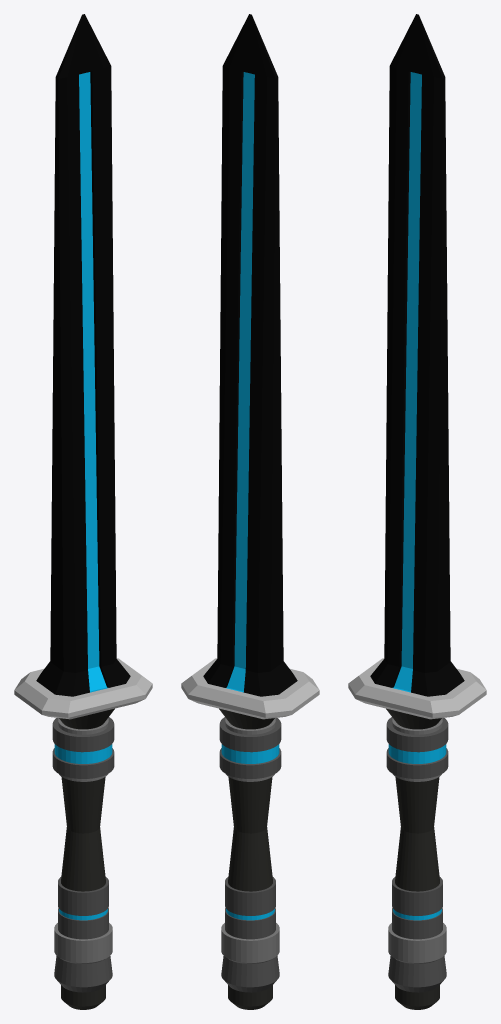
File: sword.fbx
3 views of the same model, side by side, from view 1: azimuth 30°, elevation 25°; view 2: azimuth 150°, elevation 25°; view 3: azimuth 330°, elevation 25° (orthographic).
Visible parts, largest first — view 1: sword lightining; view 2: sword lightining; view 3: sword lightining.
Boxes of the visible parts, <box> form: sword lightining: <box>14,14,152,1009</box>; sword lightining: <box>181,14,319,1009</box>; sword lightining: <box>348,14,486,1009</box>.
Bounding box in the file's own units: 18.05 × 154 × 13.24.
